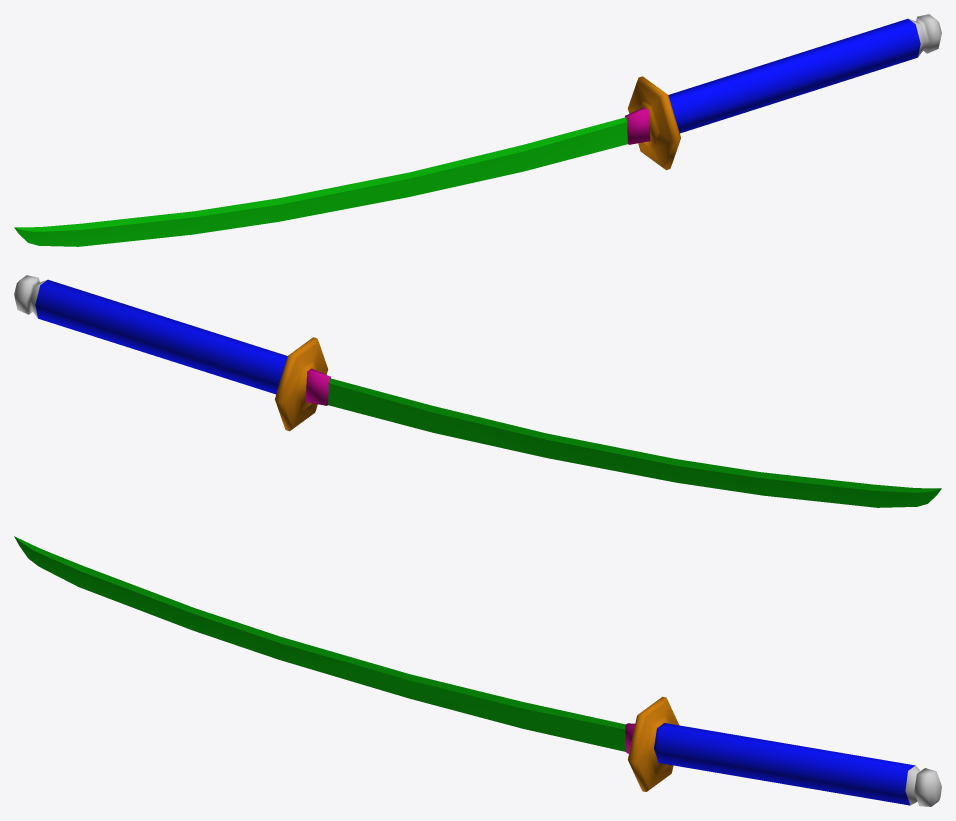
Rendered from SM_Katana_onlt-truth-matters.fbx.
The picture shows the model from 3 angles, top to bottom: view 1: azimuth 30°, elevation 25°; view 2: azimuth 150°, elevation 25°; view 3: azimuth 330°, elevation 25°; orthographic projection.
Visible parts, largest first — view 1: Katana (×5); view 2: Katana (×5); view 3: Katana (×4).
Part boxes in pixels (x1,y1,x2,y2): Katana (×5): (14,14,941,246); Katana (×5): (14,275,941,507); Katana (×4): (14,536,941,806).
Bounding box in the file's own units: 113 × 10.58 × 10.11.
